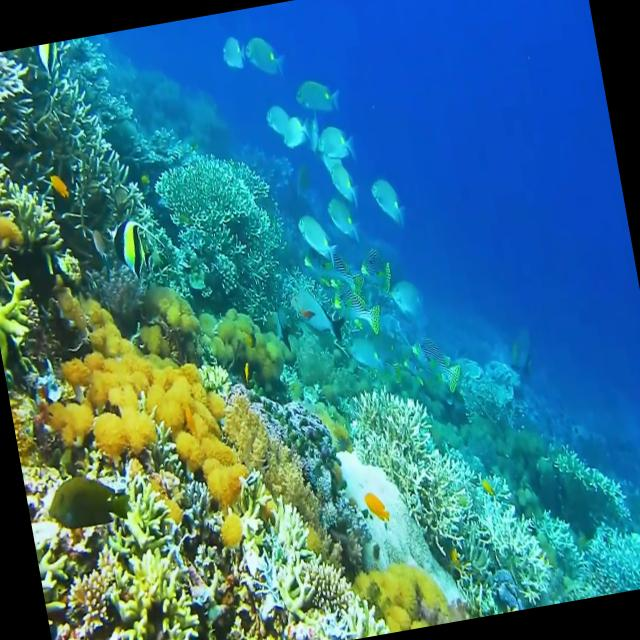fish: (40, 461, 139, 546), (106, 205, 170, 286), (404, 323, 469, 392), (361, 168, 408, 242), (332, 275, 390, 333), (240, 20, 286, 86), (291, 206, 341, 262), (317, 188, 365, 246), (306, 156, 358, 208), (361, 237, 401, 303), (286, 70, 342, 114), (309, 120, 356, 167), (258, 92, 300, 138), (386, 272, 424, 321), (214, 27, 251, 76), (359, 481, 392, 534), (278, 112, 317, 156), (46, 163, 76, 211)
